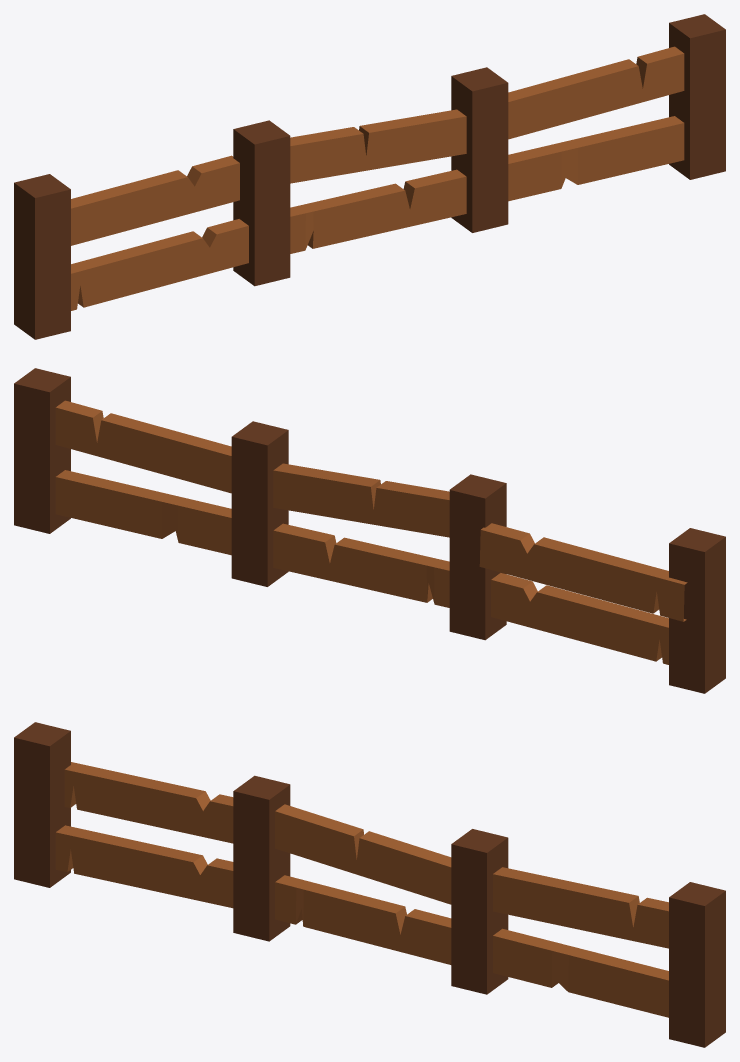
Rendered from 3linefences.fbx.
3 renders of one model, top to bottom at view 1: azimuth 30°, elevation 25°; view 2: azimuth 150°, elevation 25°; view 3: azimuth 330°, elevation 25°, orthographic.
Visible parts, largest first — view 1: Cube.017, Cube.016; view 2: Cube.017, Cube.016; view 3: Cube.017, Cube.016.
Part boxes in pixels (left/top/right/bottom): Cube.017: left=71, top=46, right=684, bottom=310; Cube.016: left=14, top=14, right=725, bottom=339; Cube.017: left=55, top=400, right=687, bottom=664; Cube.016: left=14, top=368, right=725, bottom=693; Cube.017: left=55, top=762, right=668, bottom=1017; Cube.016: left=14, top=722, right=725, bottom=1047.
Bounding box in the file's own units: 906 × 178 × 55.31.
